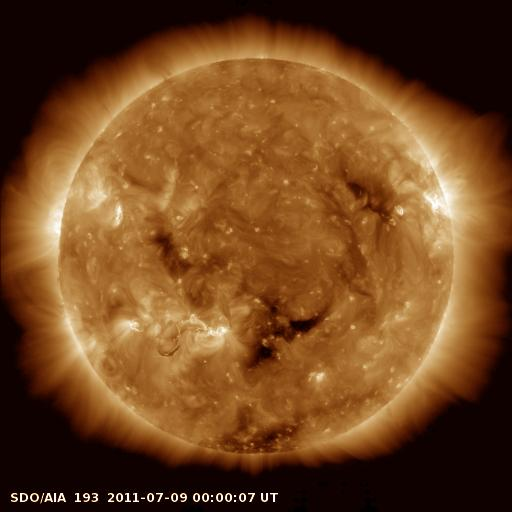coronal_hole: (247, 302, 332, 371), (206, 419, 299, 461)
